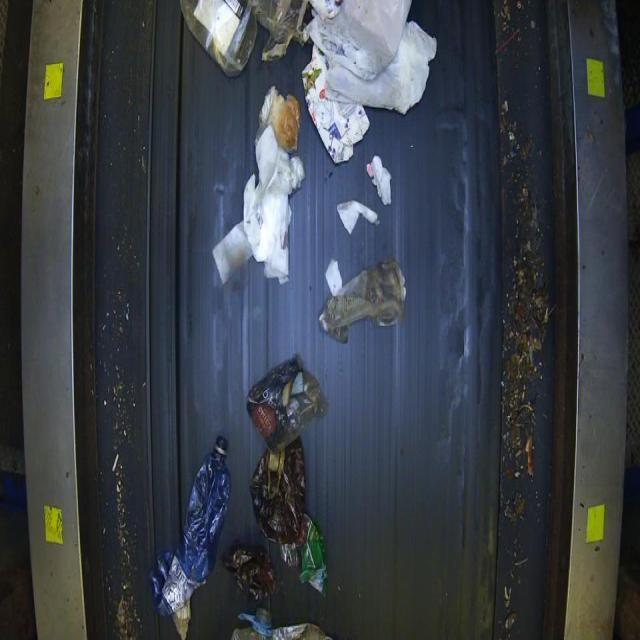cups: (178, 0, 258, 77)
